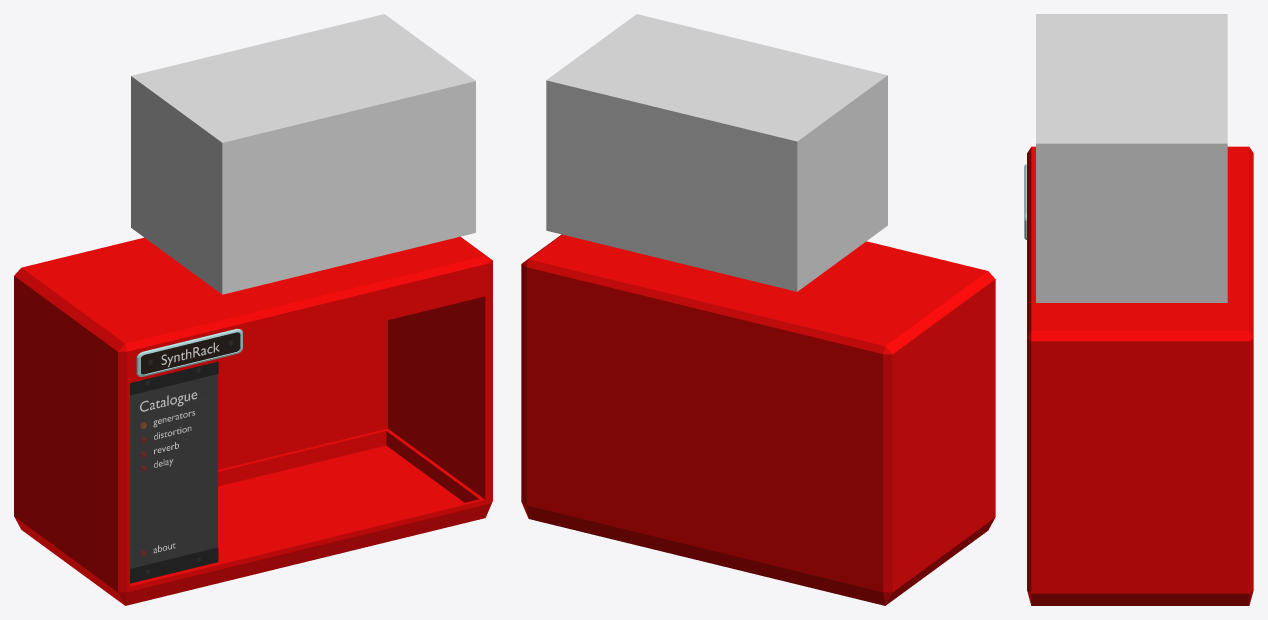
Rendered from rack.glb.
The picture shows the model from 3 angles, left to right: view 1: azimuth 30°, elevation 25°; view 2: azimuth 150°, elevation 25°; view 3: azimuth 270°, elevation 25°; orthographic projection. The views are drawn at different scales.
Parts seen in each view (by area): view 1: Rack, Stack, Logo; view 2: Rack, Stack; view 3: Rack, Stack.
Boxes of the visible parts, x1,y1,x2,y2 form: Rack: (14,236,492,605); Stack: (131,14,475,294); Logo: (136,328,242,376); Rack: (521,234,995,605); Stack: (546,14,887,291); Rack: (1027,146,1253,605); Stack: (1036,14,1227,302).
Bounding box in the file's own units: 2 × 2.23 × 1.01.
